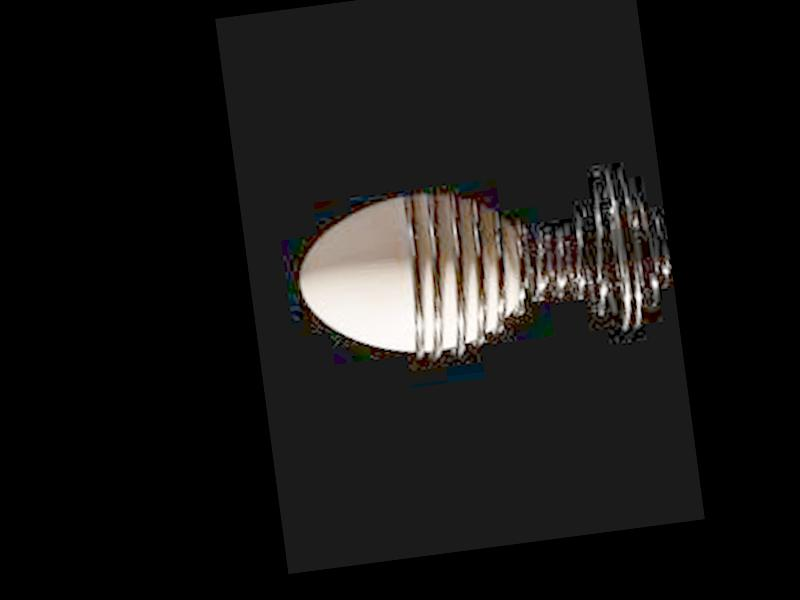Eggs: (289, 183, 530, 368)
